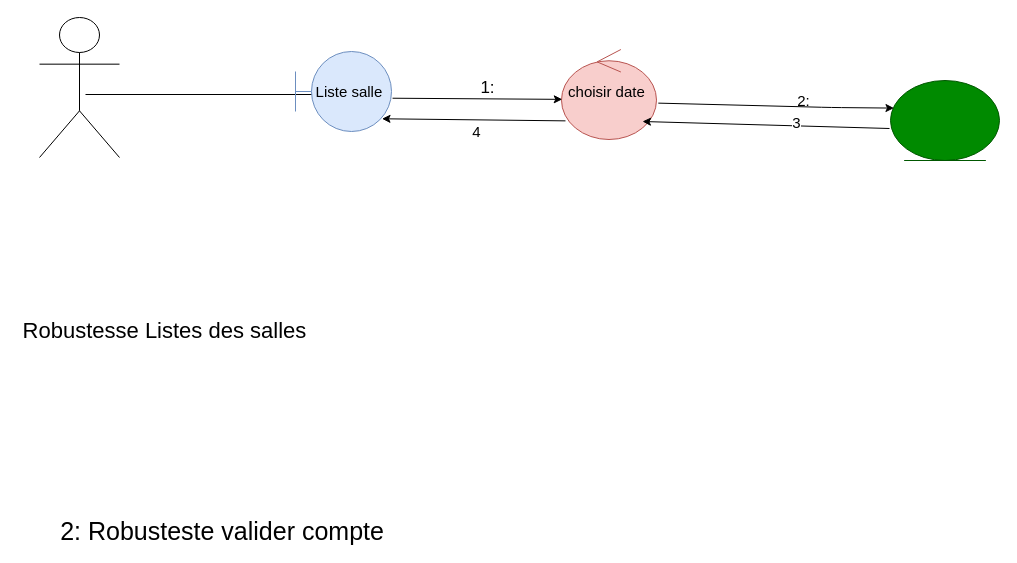
The diagram is 1017 pixels wide and 563 high, and some of its shapes have lost their labels. Each missing label, with the centre of its shape:
ADMIN: pixel 79 87
table Horaire+Modif Horaire: pixel 945 120
